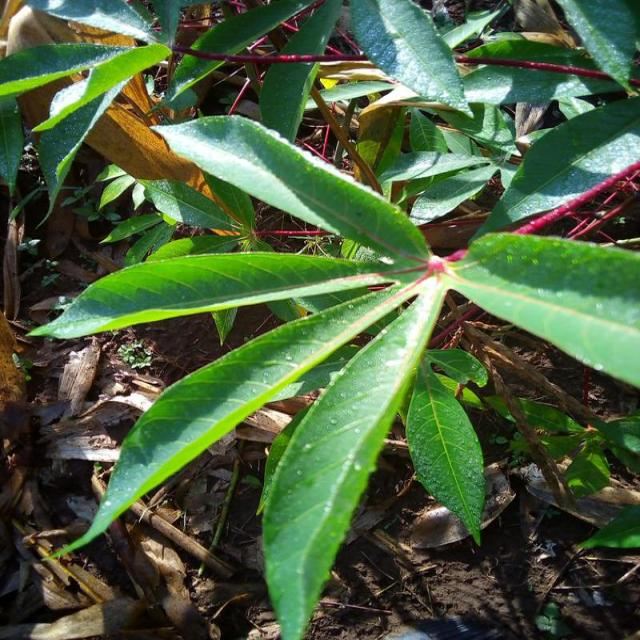cassava leaf: (20, 1, 638, 637), (46, 276, 417, 560), (258, 274, 446, 638), (148, 112, 430, 273), (24, 248, 401, 342), (443, 230, 639, 390), (405, 348, 486, 547)
